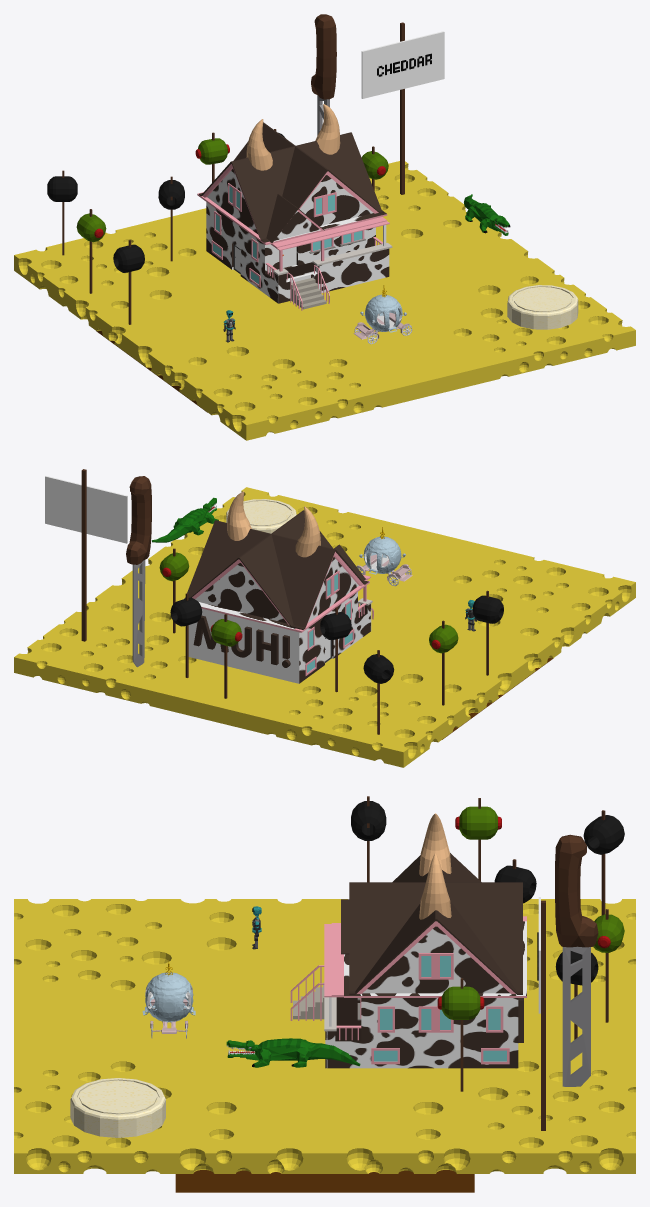
3 views of the same model, one above another, from view 1: azimuth 30°, elevation 25°; view 2: azimuth 150°, elevation 25°; view 3: azimuth 270°, elevation 25° (orthographic). The views are drawn at different scales.
Parts seen in each view (by area): view 1: Cube.022, Cube.1242, Cube.023, Cylinder.016, Cube.024, VEHICLES_FANTASY_CARRIAGE, Sphere.017, ANIMAL_COCODRILO, Sphere.016, Sphere.018, Sphere.020, Sphere.022 (+1 smaller); view 2: Cube.022, Cube.1242, Cube.023, Cube.024, VEHICLES_FANTASY_CARRIAGE, Cylinder.016, ANIMAL_COCODRILO, Sphere.021, Sphere.022, Sphere.020, Sphere.017, Sphere.016 (+2 smaller); view 3: Cube.022, Cube.1242, Cube.024, UNDERGROUND_ART_PIECE_VAN_GOGH, Cylinder.016, ANIMAL_COCODRILO, VEHICLES_FANTASY_CARRIAGE, Sphere.019, Sphere.016, Cube.023, Sphere.018, Sphere.017 (+3 smaller).
Part boxes in pixels (x1,y1,x2,y2): Cube.022: (14, 161, 635, 440); Cube.1242: (197, 104, 392, 310); Cube.023: (361, 22, 444, 194); Cylinder.016: (507, 285, 578, 329); Cube.024: (311, 14, 336, 135); VEHICLES_FANTASY_CARRIAGE: (353, 285, 412, 344); Sphere.017: (113, 240, 144, 324); ANIMAL_COCODRILO: (464, 194, 510, 235); Sphere.016: (47, 170, 77, 255); Sphere.018: (76, 209, 106, 293); Sphere.020: (158, 176, 184, 261); Sphere.022: (195, 132, 229, 182); Cube.022: (14, 487, 635, 767); Cube.1242: (183, 491, 373, 683); Cube.023: (45, 469, 127, 641); Cube.024: (126, 476, 151, 667); VEHICLES_FANTASY_CARRIAGE: (356, 527, 412, 586); Cylinder.016: (226, 499, 296, 533); ANIMAL_COCODRILO: (151, 497, 218, 542); Sphere.021: (170, 593, 202, 677); Sphere.022: (210, 614, 242, 698); Sphere.020: (320, 607, 351, 692); Sphere.017: (472, 590, 503, 675); Sphere.016: (363, 650, 394, 734); Cube.022: (14, 899, 635, 1173); Cube.1242: (290, 813, 526, 1068); Cube.024: (555, 834, 598, 1086); UNDERGROUND_ART_PIECE_VAN_GOGH: (175, 1170, 474, 1192); Cylinder.016: (70, 1078, 165, 1137); ANIMAL_COCODRILO: (226, 1038, 360, 1067); VEHICLES_FANTASY_CARRIAGE: (142, 960, 195, 1038); Sphere.019: (437, 978, 484, 1091); Sphere.016: (583, 810, 624, 915); Cube.023: (537, 897, 545, 1130); Sphere.018: (455, 798, 501, 880); Sphere.017: (351, 796, 386, 882).
Bounding box in the file's own units: 3917 × 2132 × 4000.
Materials: 38 (4 with a texture image).
